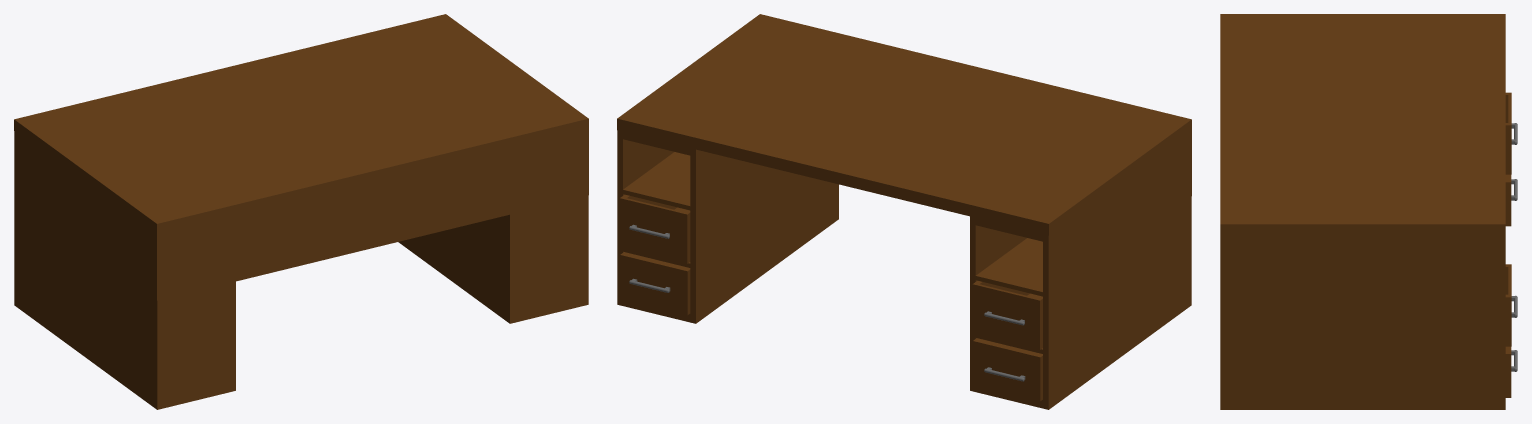
The model's file is desk.fbx.
The picture shows the model from 3 angles, left to right: view 1: azimuth 30°, elevation 25°; view 2: azimuth 150°, elevation 25°; view 3: azimuth 270°, elevation 25°; orthographic projection.
Visible parts, largest first — view 1: Cube; view 2: Cube; view 3: Cube.
Boxes of the visible parts, x1,y1,x2,y2 form: Cube: [14, 14, 588, 409]; Cube: [617, 14, 1191, 409]; Cube: [1220, 14, 1511, 409].
Size of the model in its own units: 612 by 252 by 366.
